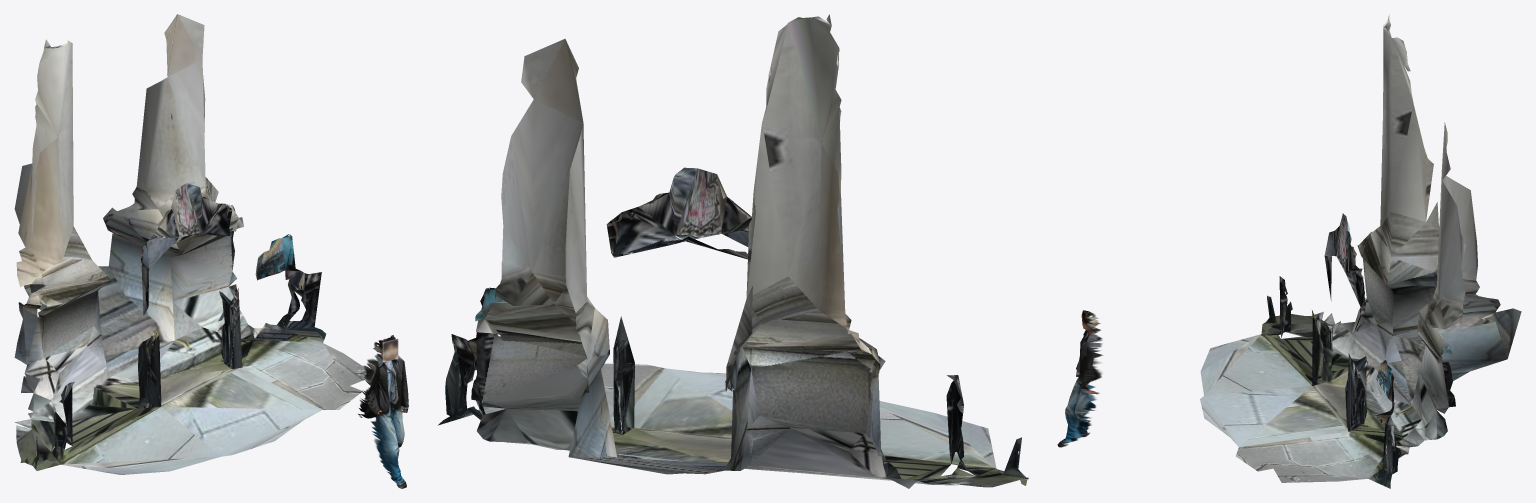
File: distortedRealities01.glb
3 renders of one model, left to right at view 1: azimuth 30°, elevation 25°; view 2: azimuth 150°, elevation 25°; view 3: azimuth 270°, elevation 25°, orthographic. The views are drawn at different scales.
Parts seen in each view (by area): view 1: mesh.002, ImagePlane; view 2: mesh.002; view 3: mesh.002, ImagePlane.
Part boxes in pixels (x1,y1,x2,y2): mesh.002: (14,14,366,474); ImagePlane: (358,335,408,488); mesh.002: (438,14,1028,488); mesh.002: (1200,14,1521,488); ImagePlane: (1057,310,1103,447).
Size of the model in its own units: 6.2 by 5.95 by 7.21.
Materials: 3 (3 with a texture image).
